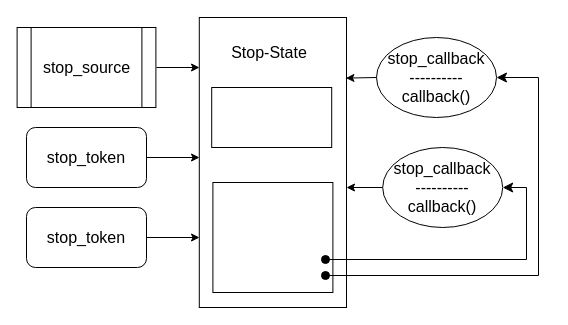
Image size: 568x325. Some labels were removed from this diagram. Each missing label, with the box of its shape:
Callback Registrations ---------- callback_entry callback_entry: (212, 182, 333, 292)
isStopped flag, reference count, other state data: (211, 86, 332, 148)
